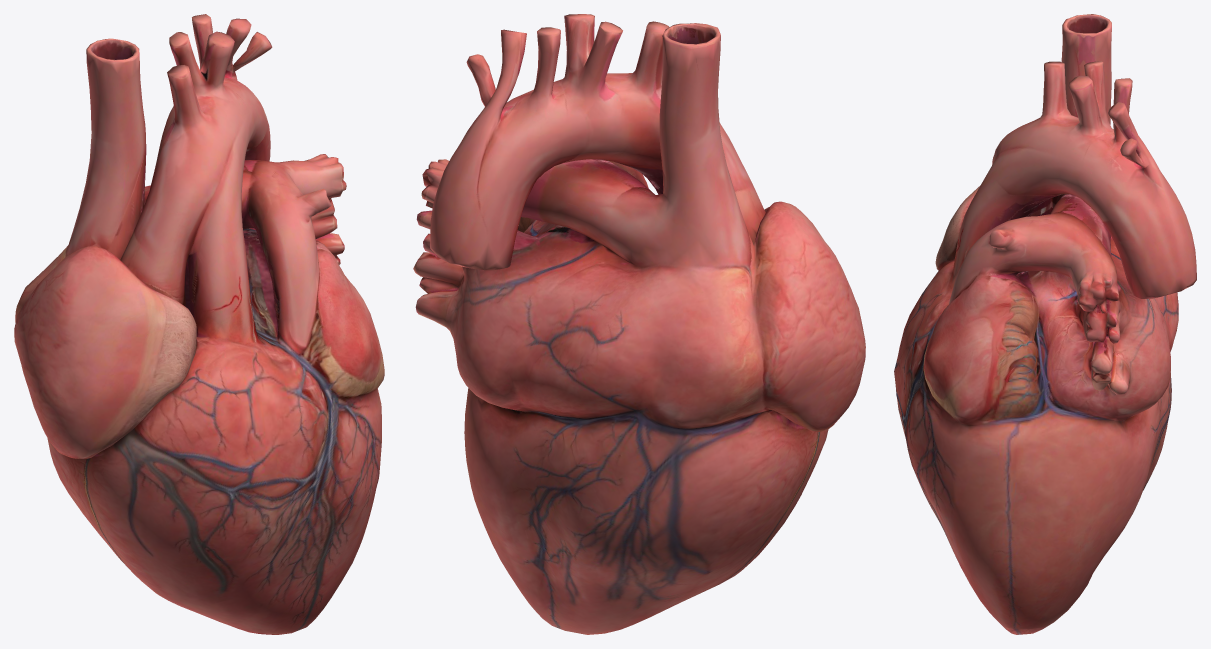
Rendered from stenosisHeart.glb.
3 views of the same model, side by side, from view 1: azimuth 30°, elevation 25°; view 2: azimuth 150°, elevation 25°; view 3: azimuth 270°, elevation 25° (orthographic). The views are drawn at different scales.
Parts seen in each view (by area): view 1: stenosisHeart; view 2: stenosisHeart; view 3: stenosisHeart.
Part boxes in pixels (x1,y1,x2,y2): stenosisHeart: (14,14,384,634); stenosisHeart: (413,14,865,634); stenosisHeart: (894,14,1196,634).
Bounding box in the file's own units: 1.23 × 2 × 1.
Materials: 1 (1 with a texture image).
